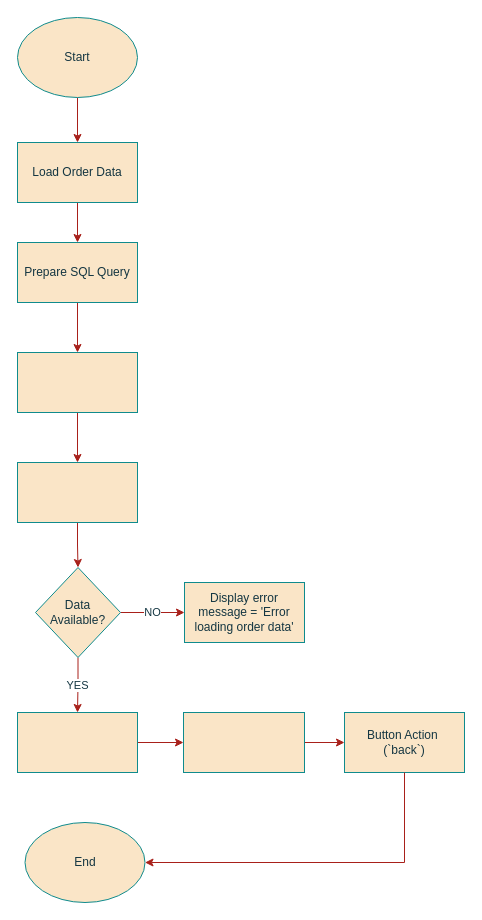
The diagram is 482 pixels wide and 920 high, and some of its shapes have lost their labels. The box of each missing label's shape, as (x1, y1, x2, y2) in pixels:
Connect to Database: (16, 352, 138, 412)
End of Data Loading: (182, 712, 304, 772)
Execute SQL Query: (16, 462, 138, 522)
Extract Data and display in jtable: (16, 712, 138, 772)
